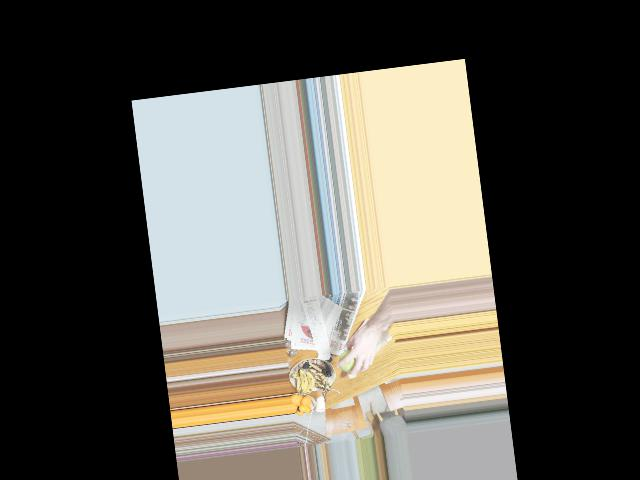apple: (337, 347, 363, 374)
